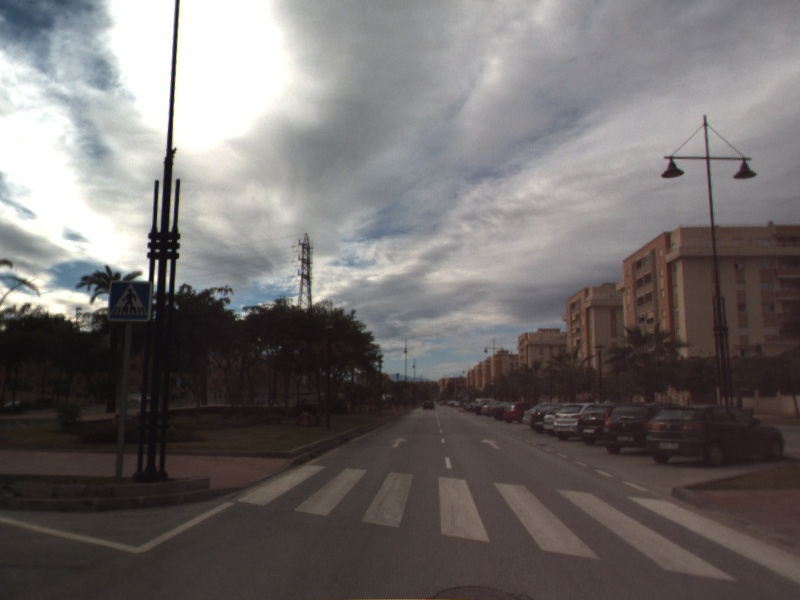STRAIGHT: (478, 437, 503, 451), (389, 435, 409, 450)
